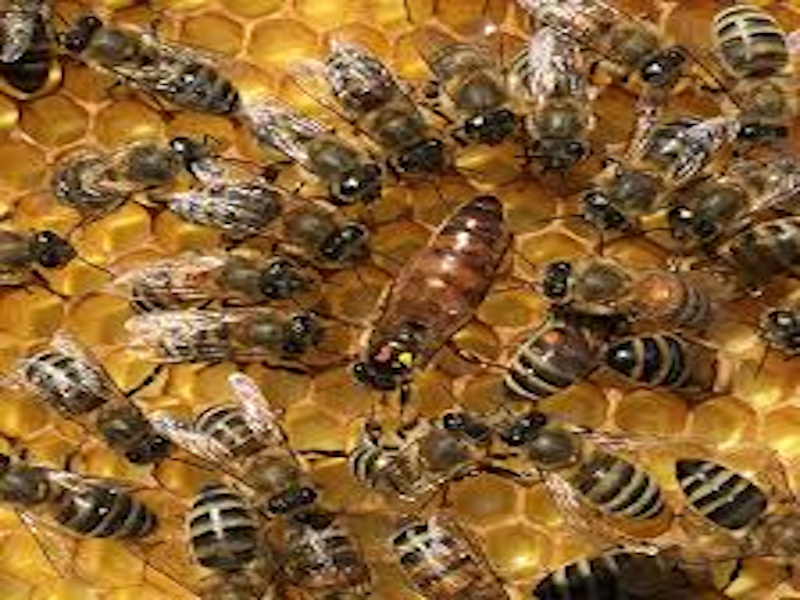abeja: (305, 28, 446, 189), (489, 402, 661, 533), (328, 394, 502, 522), (155, 384, 327, 512), (10, 327, 167, 462), (63, 7, 239, 127), (1, 452, 161, 571), (107, 304, 339, 385), (242, 94, 405, 201), (592, 317, 766, 404), (525, 253, 713, 331), (126, 245, 315, 316), (525, 17, 597, 187)
